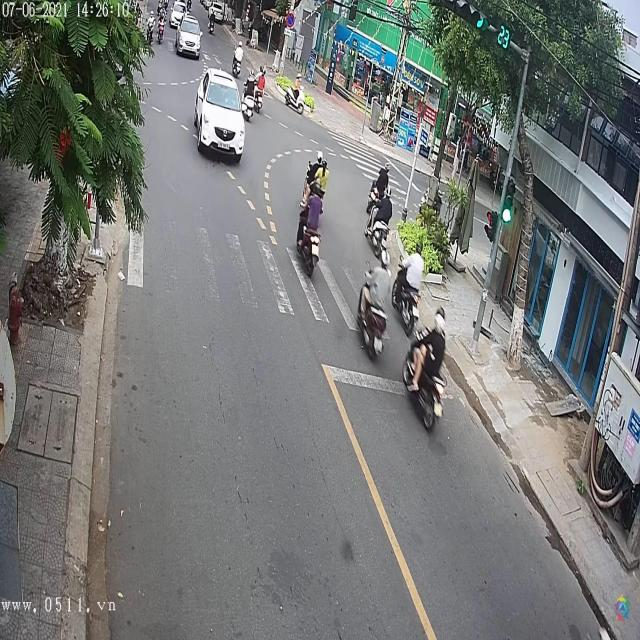car: (194, 72, 249, 164), (174, 16, 202, 61)
motorcycle: (402, 323, 448, 433), (357, 260, 388, 365), (392, 252, 422, 338), (294, 199, 320, 279), (366, 192, 392, 261), (285, 84, 305, 115), (241, 86, 256, 122), (233, 46, 243, 76), (157, 18, 165, 45)
